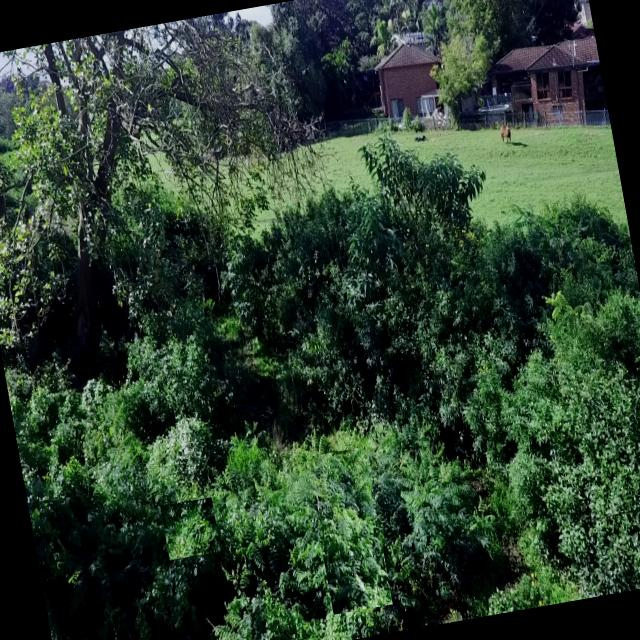Mysore-Thorn-Weed: (378, 425, 498, 578), (213, 458, 322, 606), (306, 446, 392, 614), (160, 496, 220, 560)
